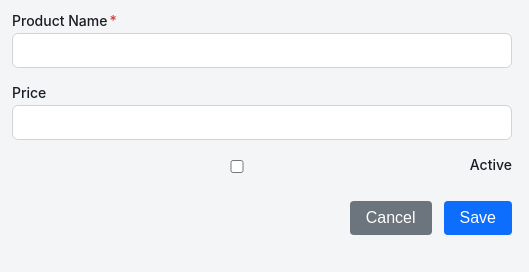
Test case: FormBlock › Create Mode › validates required fields on submit
This screenshot has width=529, height=272.
Step 1. Click the button with test id "form-submit" → [478, 218], box [444,201,512,235]
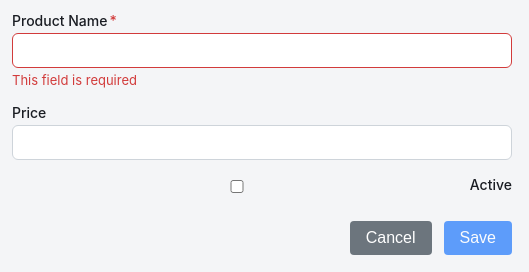
Expected: the text "This field is required" is shown, [12,72,137,88]
